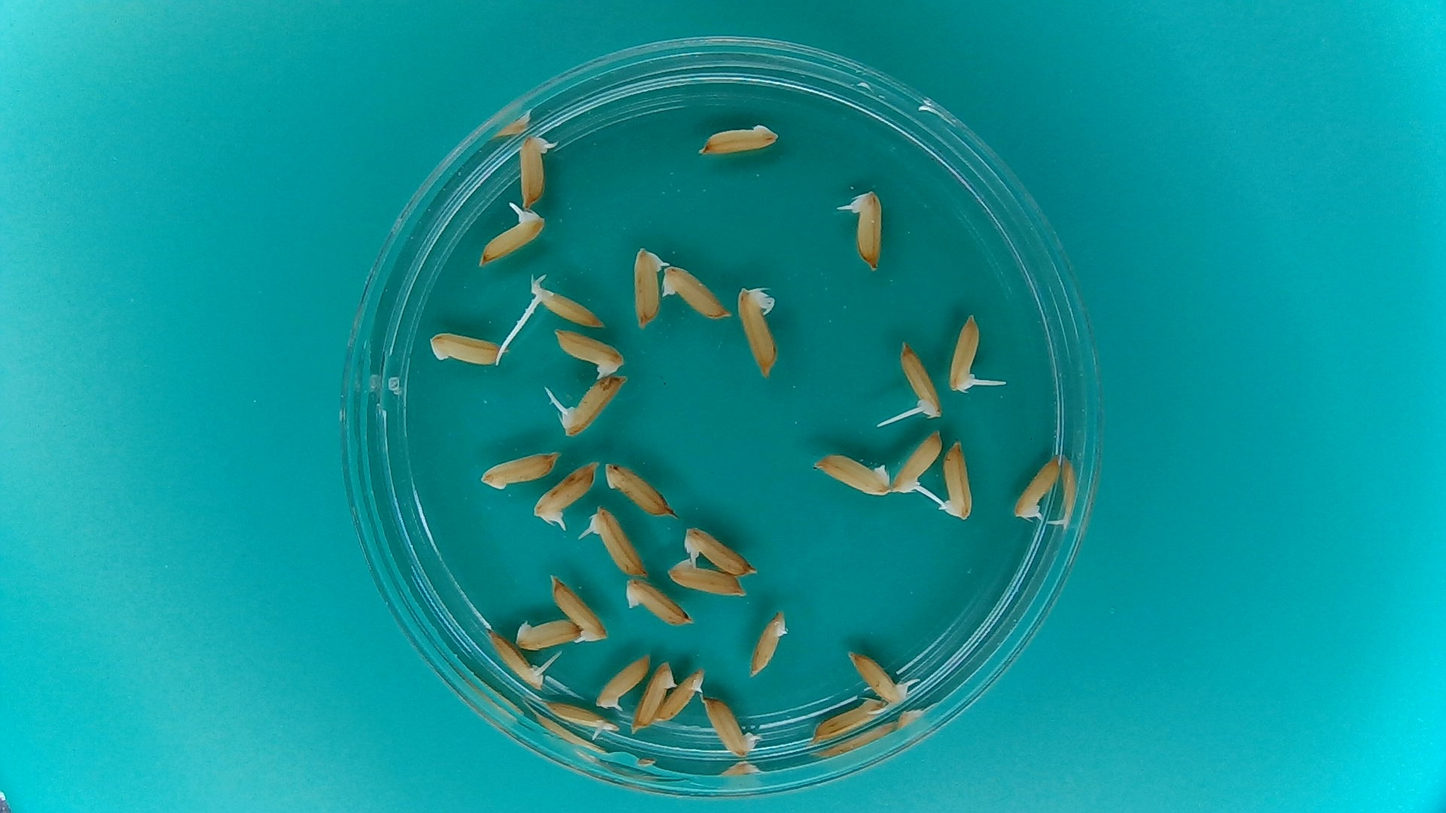no: (602, 458, 679, 519), (657, 261, 734, 322), (807, 448, 894, 497), (807, 693, 886, 745), (738, 286, 779, 386), (701, 693, 761, 760), (621, 575, 696, 628), (934, 437, 976, 525), (746, 605, 792, 681), (664, 557, 749, 598), (478, 449, 559, 492), (696, 117, 782, 157), (426, 328, 509, 368), (654, 665, 706, 726), (633, 659, 678, 729), (512, 614, 582, 652)
yes: (585, 504, 651, 578), (547, 570, 611, 644), (557, 370, 631, 434), (483, 627, 551, 693), (535, 458, 599, 522), (480, 202, 550, 260), (683, 526, 760, 578), (1010, 451, 1064, 524), (848, 652, 917, 707), (891, 427, 945, 497), (530, 279, 603, 329), (557, 330, 627, 381), (845, 187, 889, 268), (896, 344, 943, 419), (595, 652, 651, 712), (628, 244, 667, 330), (517, 129, 553, 209), (541, 698, 618, 735), (950, 313, 983, 398)
